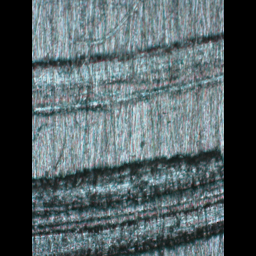d: (32, 148, 224, 255), (32, 30, 220, 116)
